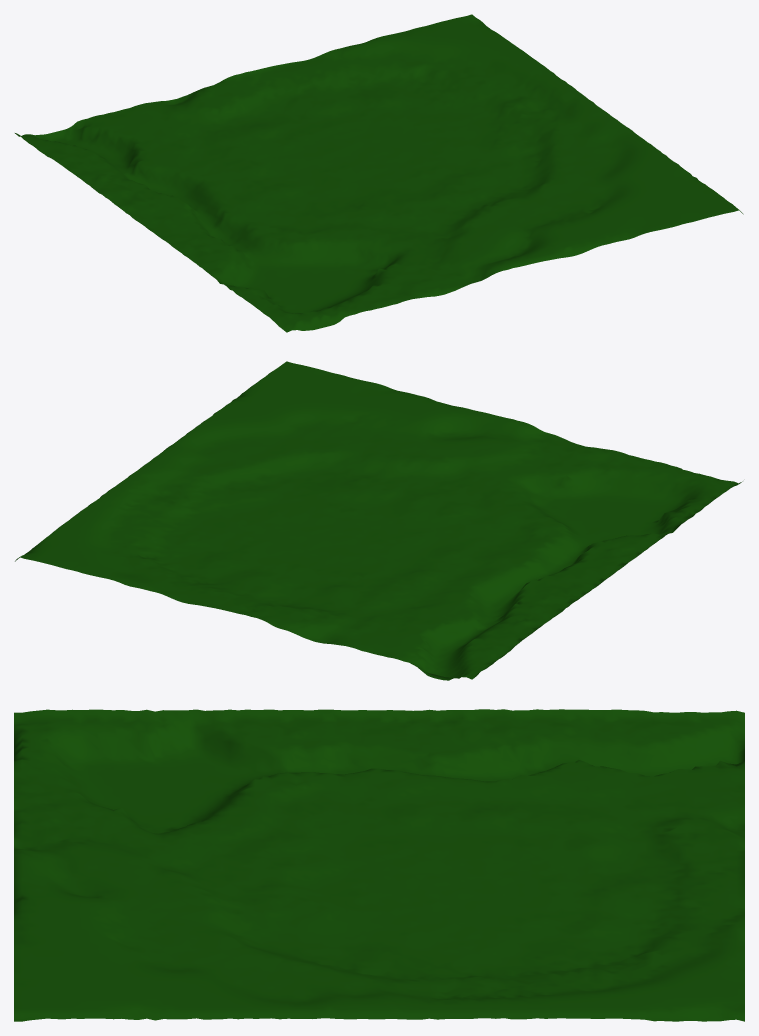
Rendered from camp_landscape.glb.
3 renders of one model, top to bottom at view 1: azimuth 30°, elevation 25°; view 2: azimuth 150°, elevation 25°; view 3: azimuth 270°, elevation 25°, orthographic. The views are drawn at different scales.
Visible parts, largest first — view 1: Plane; view 2: Plane; view 3: Plane.
Part boxes in pixels (left/top/right/bottom): Plane: left=15, top=14, right=743, bottom=332; Plane: left=15, top=361, right=742, bottom=680; Plane: left=14, top=709, right=744, bottom=1021.
Size of the model in its own units: 400 by 18.9 by 400.
